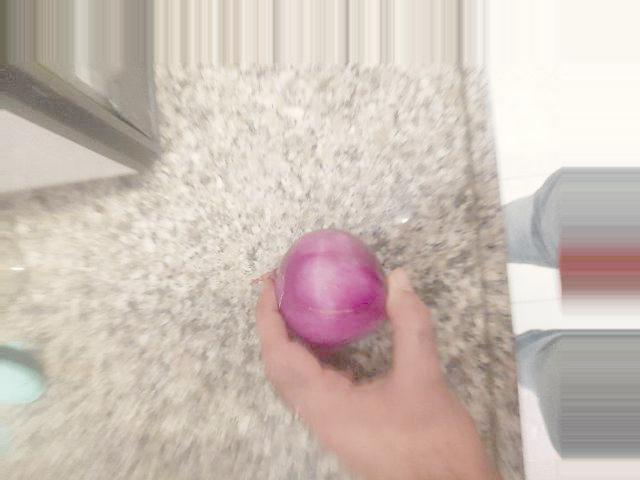onion: (279, 236, 401, 353)
